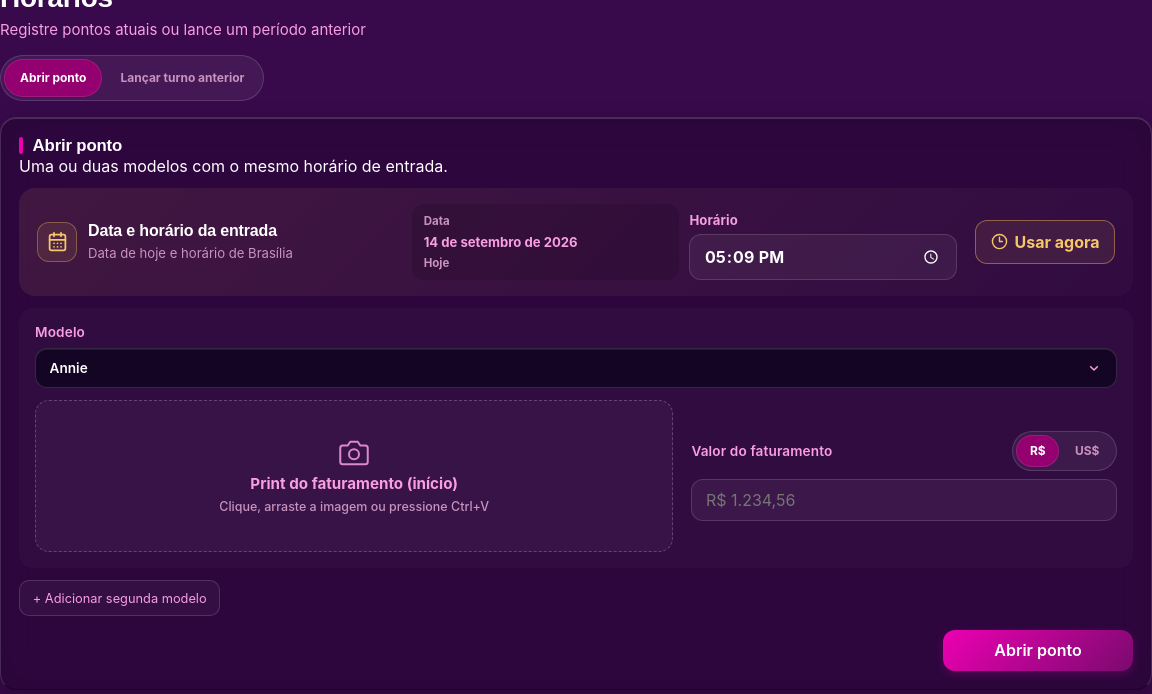
Test: ShiftsPage › alterna para lançamento anterior e permite adicionar uma segunda modelo
Expected: the heading "Abrir ponto" is shown, [33,136,122,155]
Click the button "Lançar turno anterior". click: (182, 78)
box: [104,59,260,97]
(page scrolled)
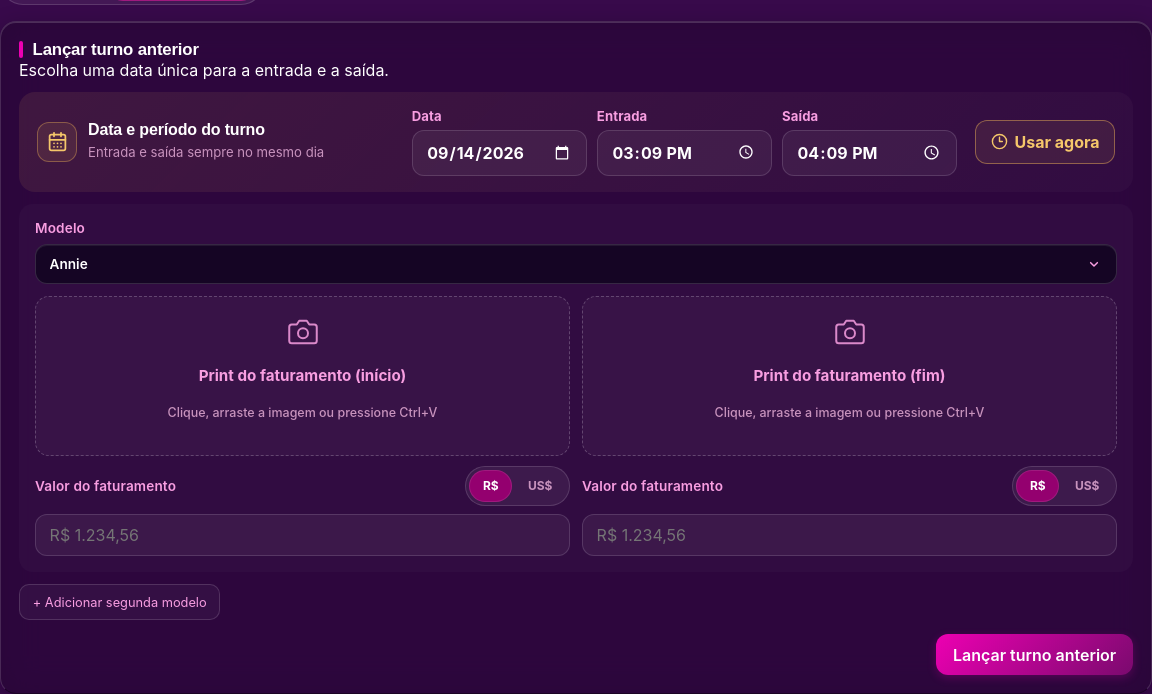
Expected: the heading "Lançar turno anterior" is shown, [33,40,199,59]
Click the button "+ Adicionar segunda modelo". click: (120, 602)
box: [19,584,220,620]
(page scrolled)
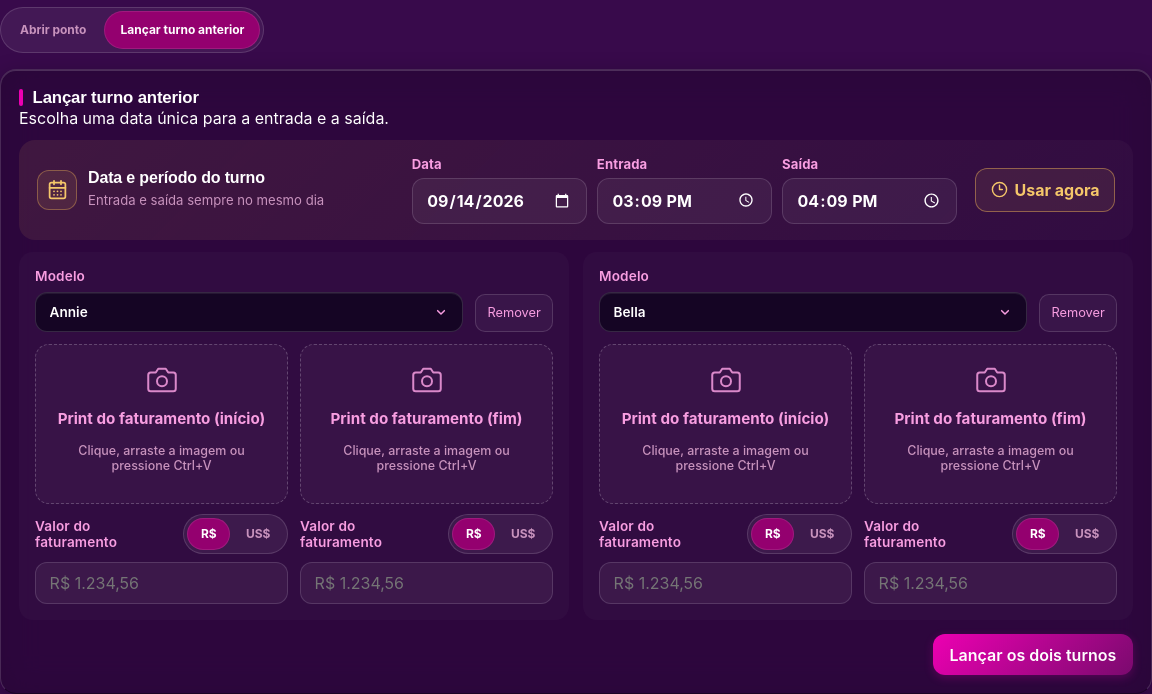
Expected: the number of dropdowns labelled "Modelo" is 2, [35,292,463,332]; [599,292,1027,332]
